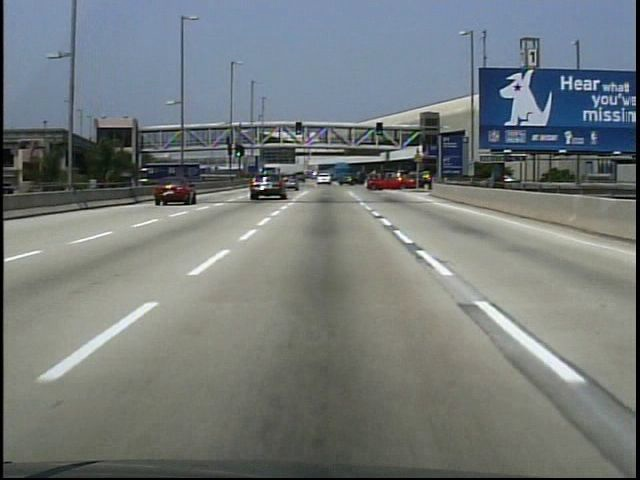person: (226, 135, 231, 147)
